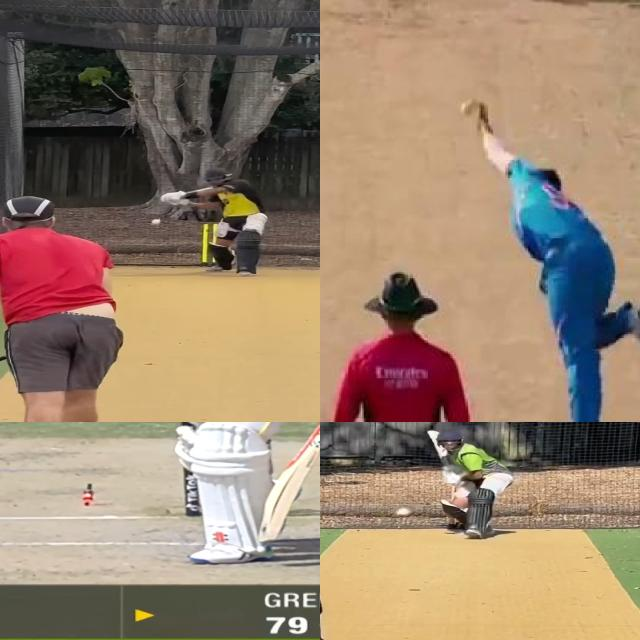Cricket ball: (390, 505, 416, 522), (461, 98, 476, 118), (150, 217, 164, 227)
